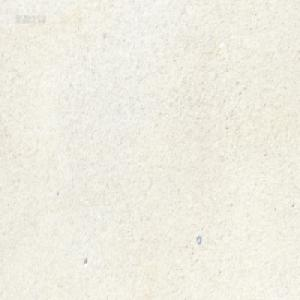Washer: (196, 234, 201, 244)
